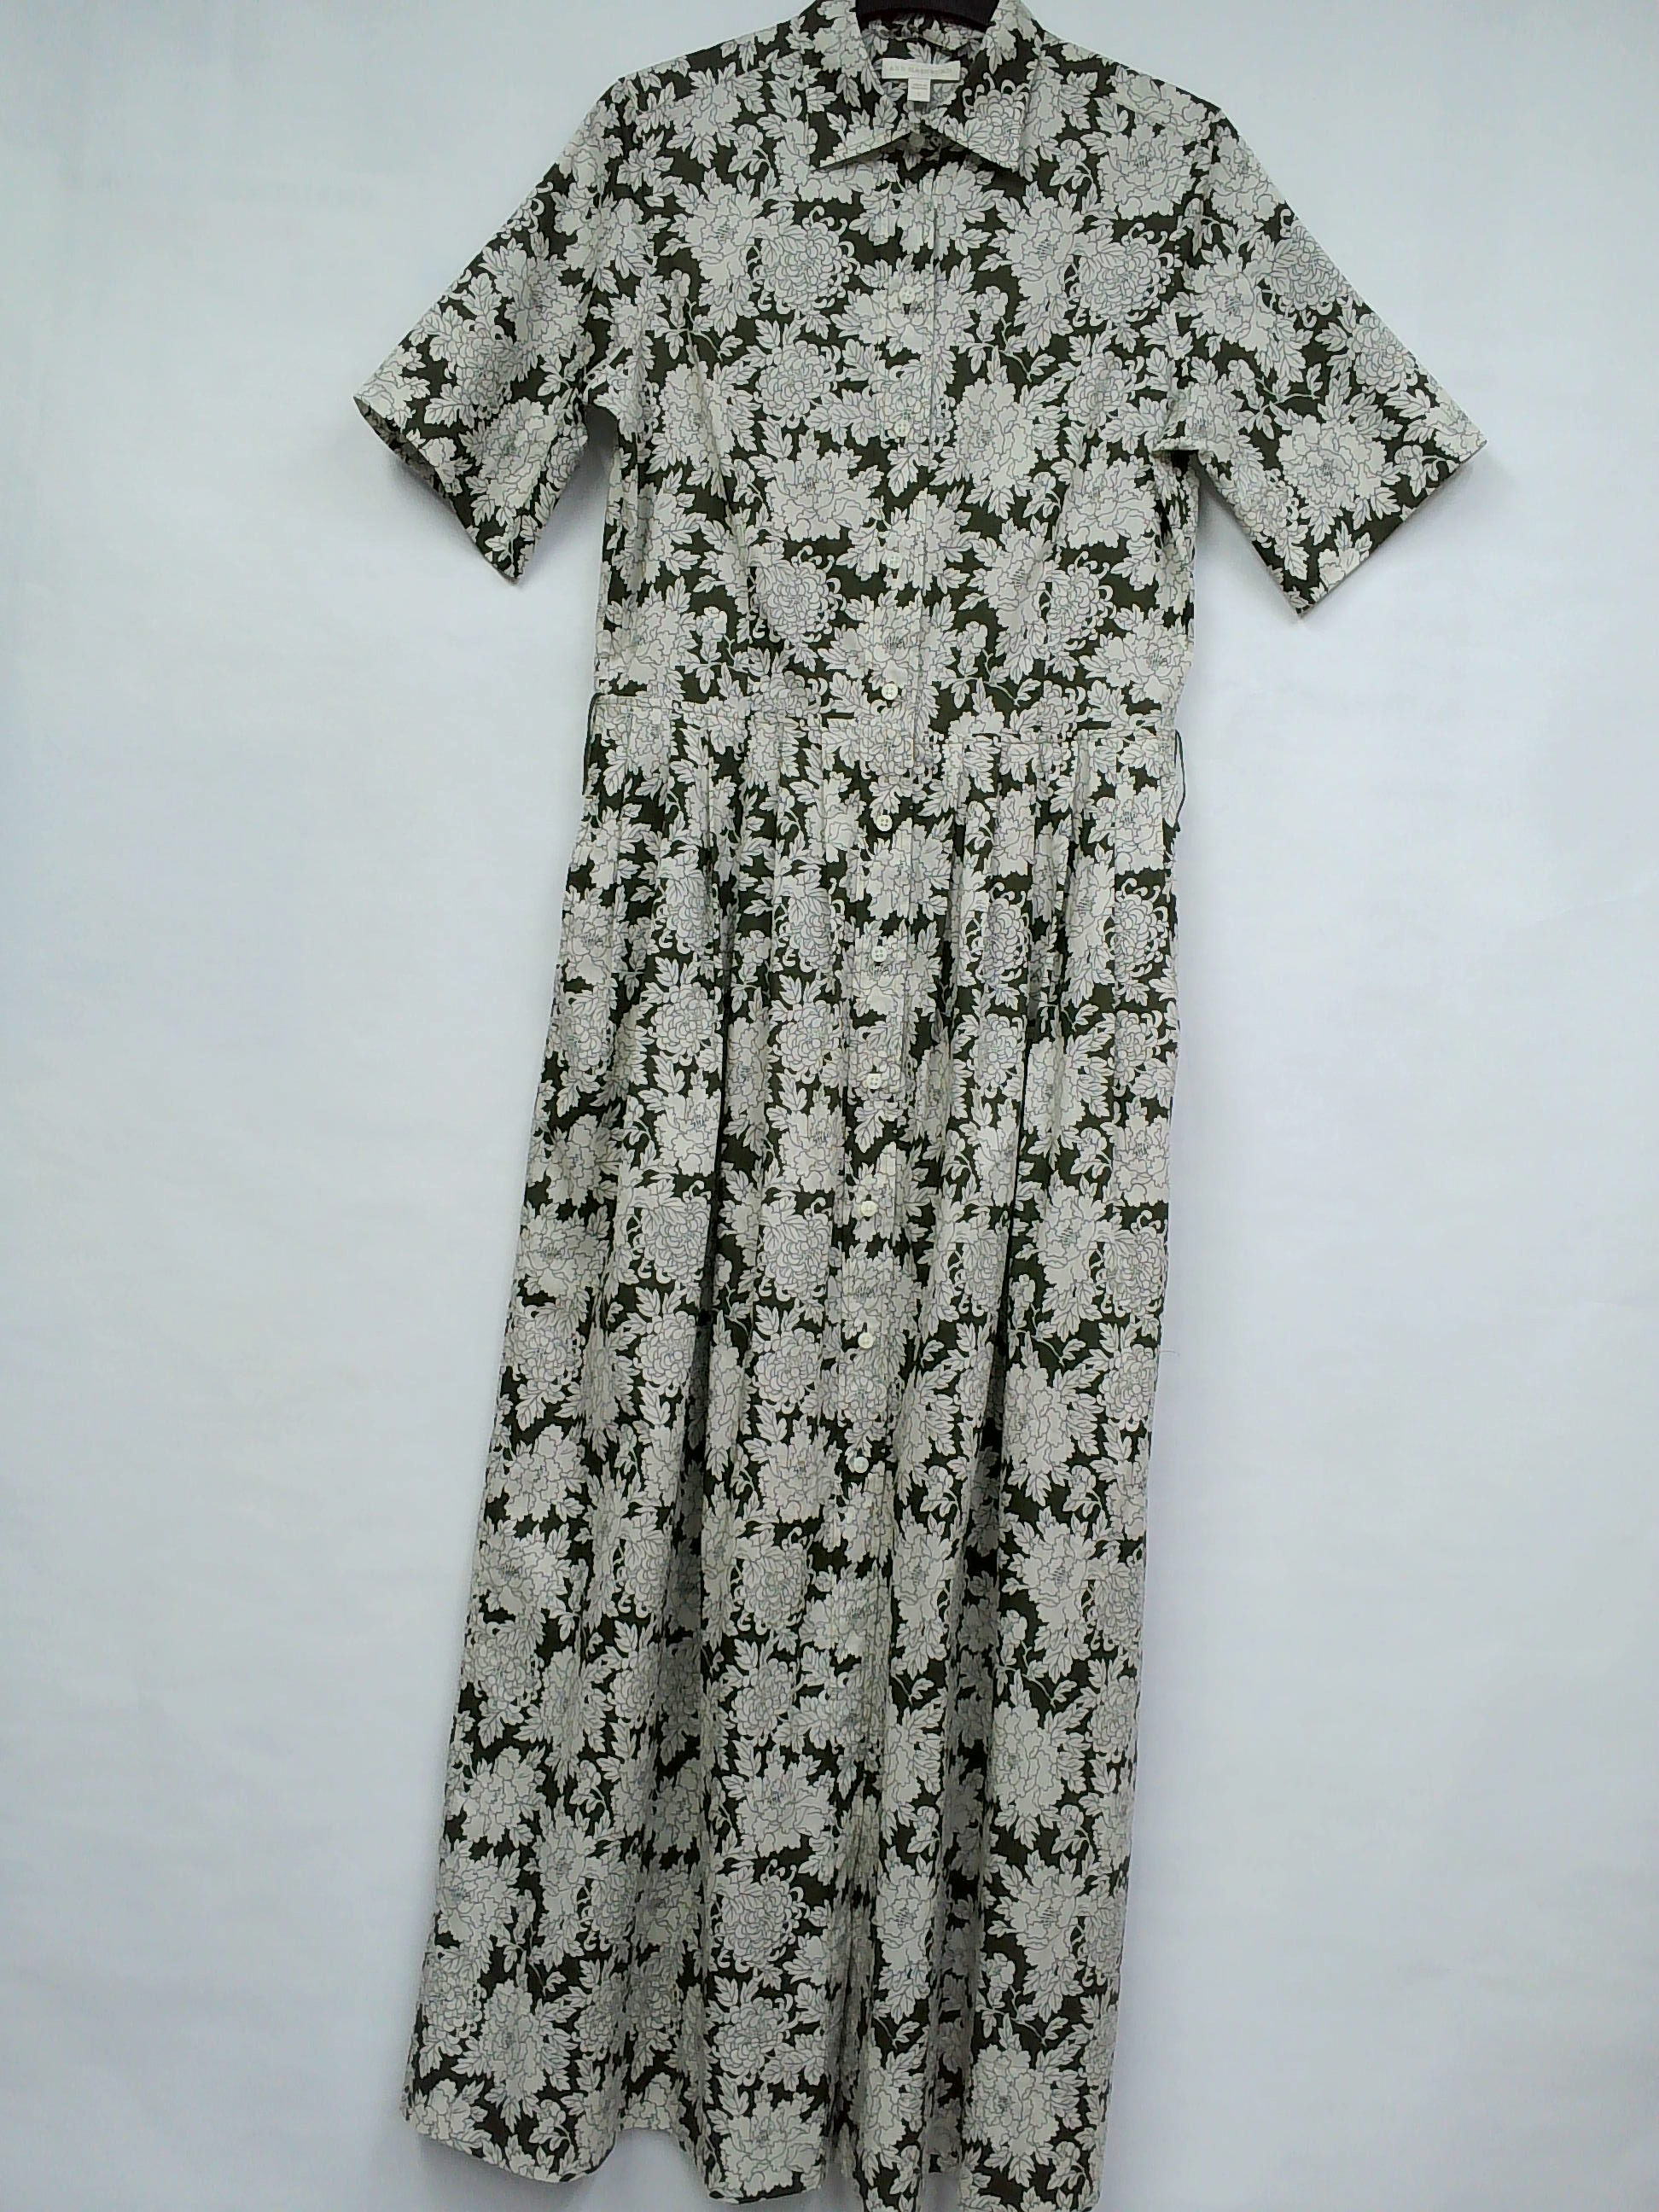seam: (1237, 355, 1490, 575)
